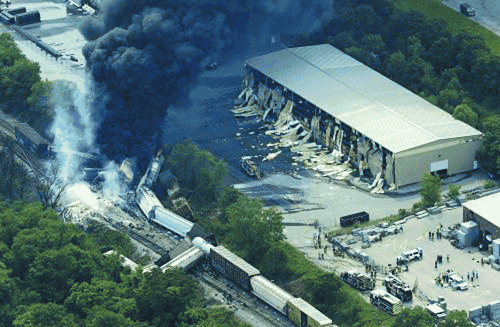smoke: (80, 4, 192, 162)
